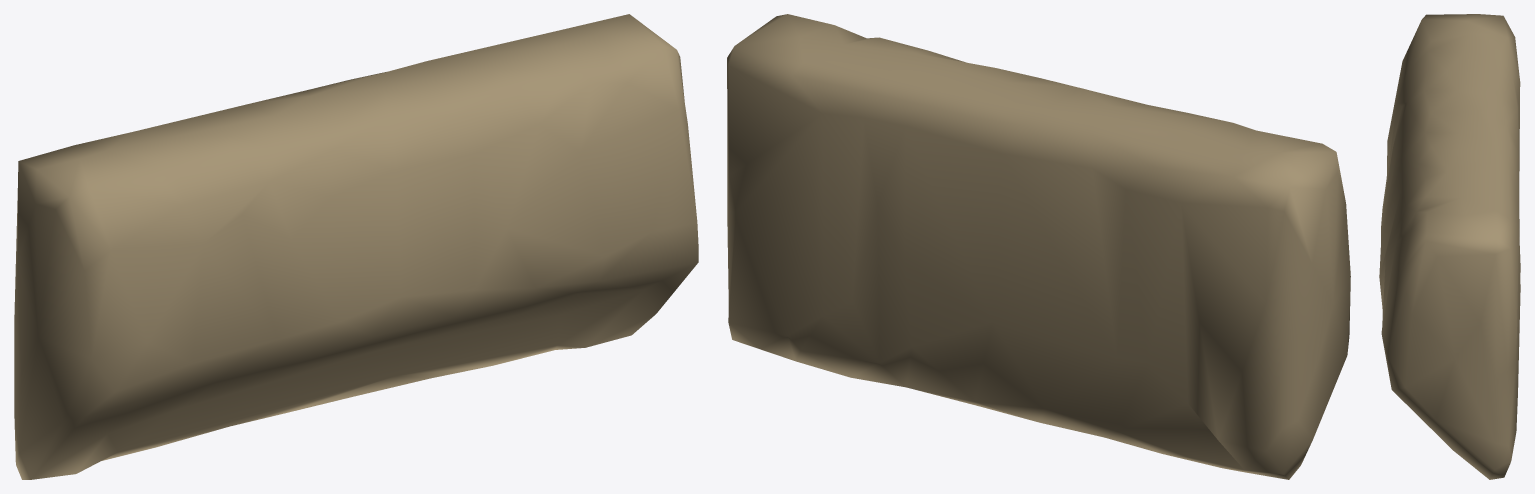
The model's file is Sofa.027.fbx.
3 views of the same model, side by side, from view 1: azimuth 30°, elevation 25°; view 2: azimuth 150°, elevation 25°; view 3: azimuth 270°, elevation 25° (orthographic). The views are drawn at different scales.
Parts seen in each view (by area): view 1: Sofa.027; view 2: Sofa.027; view 3: Sofa.027.
Boxes of the visible parts, x1,y1,x2,y2 form: Sofa.027: (14,14,698,479); Sofa.027: (727,14,1350,479); Sofa.027: (1379,14,1520,479).
Bounding box in the file's own units: 102 × 51.4 × 25.76.
